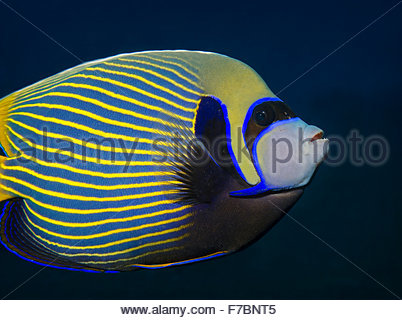Pomacanthus_imperator: (1, 33, 338, 268)
